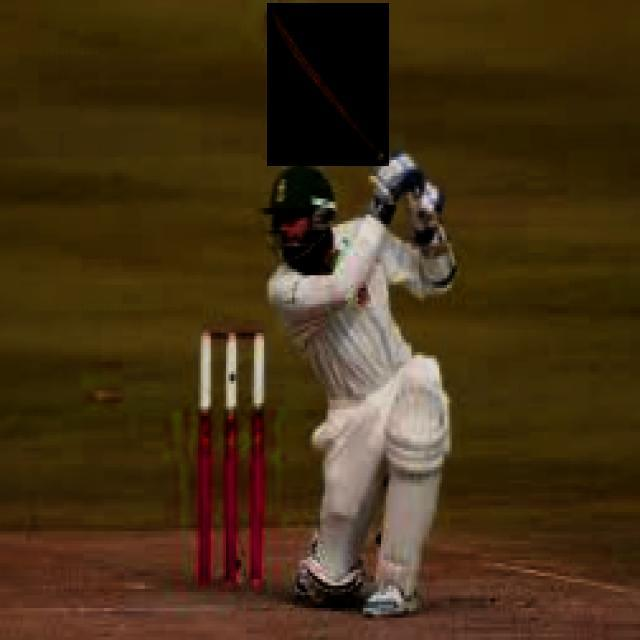bat: (268, 5, 392, 165)
